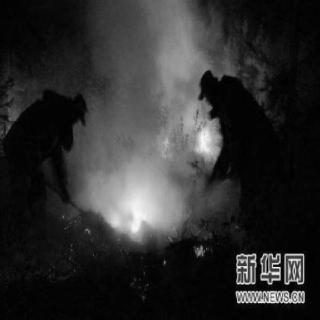other: (195, 125, 213, 159)
